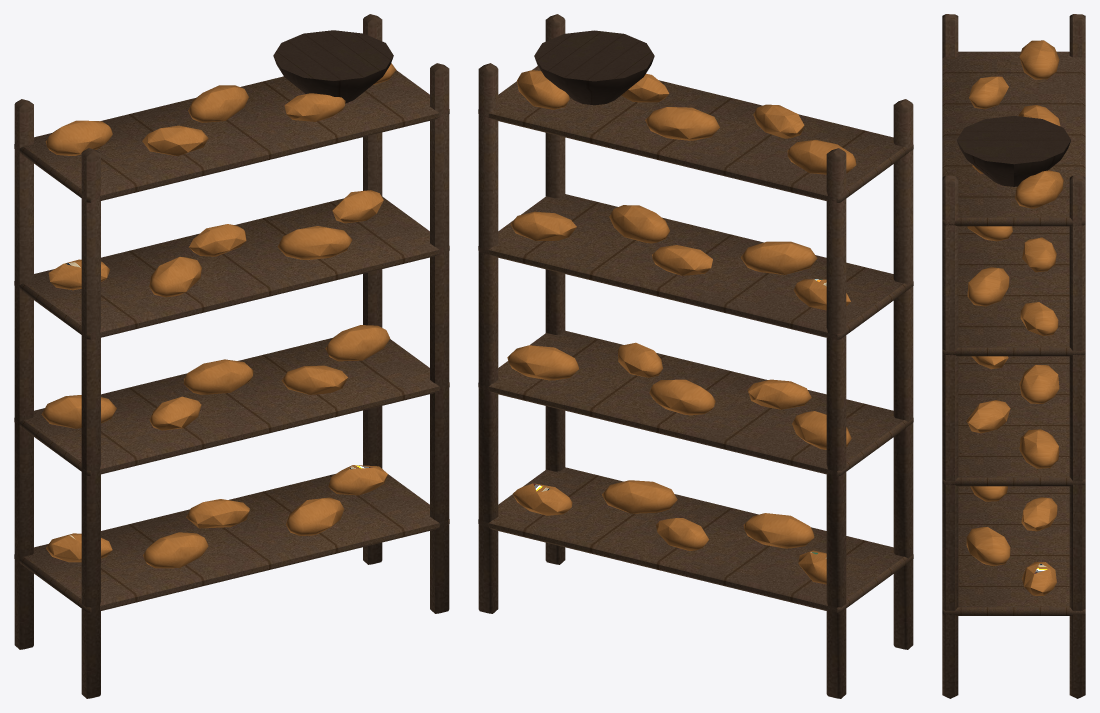
Rendered from bread_rack_lod1.glb.
3 renders of one model, left to right at view 1: azimuth 30°, elevation 25°; view 2: azimuth 150°, elevation 25°; view 3: azimuth 270°, elevation 25°, orthographic. The views are drawn at different scales.
Parts seen in each view (by area): view 1: bread_rack; view 2: bread_rack; view 3: bread_rack.
Part boxes in pixels (x1,y1,x2,y2): bread_rack: (14,14,449,698); bread_rack: (478,14,913,698); bread_rack: (942,14,1085,698).
Size of the model in its own units: 1.25 by 1.81 by 0.45.
Materials: 1 (1 with a texture image).
